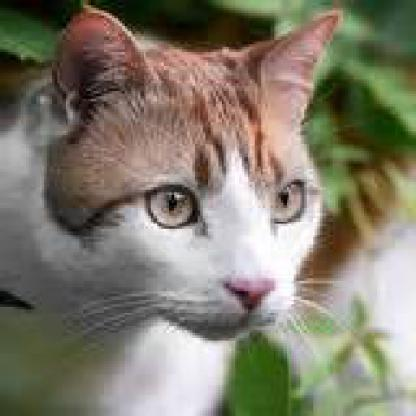cat: (0, 6, 343, 414)
